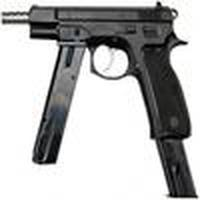gun: (1, 4, 200, 144)
